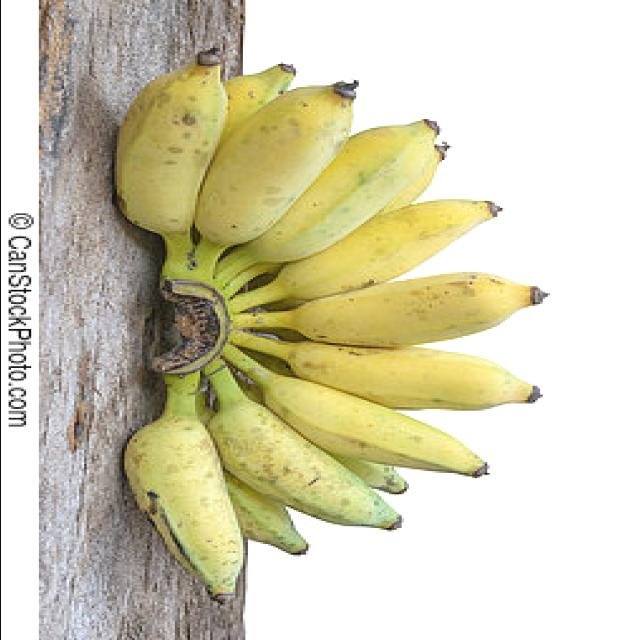banana: (109, 46, 556, 610)
